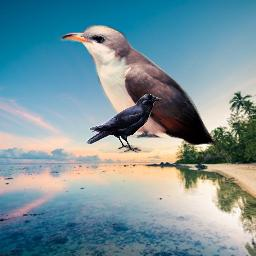Crow: (86, 94, 161, 153)
Cuckoo: (61, 25, 217, 146)
